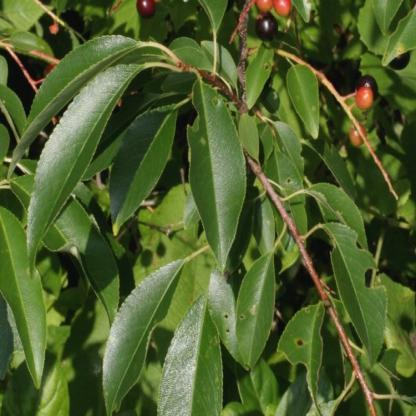Cherry leaf: (8, 18, 182, 256), (100, 252, 193, 415), (188, 76, 250, 274), (109, 103, 179, 238), (156, 297, 230, 415), (233, 248, 282, 378)
